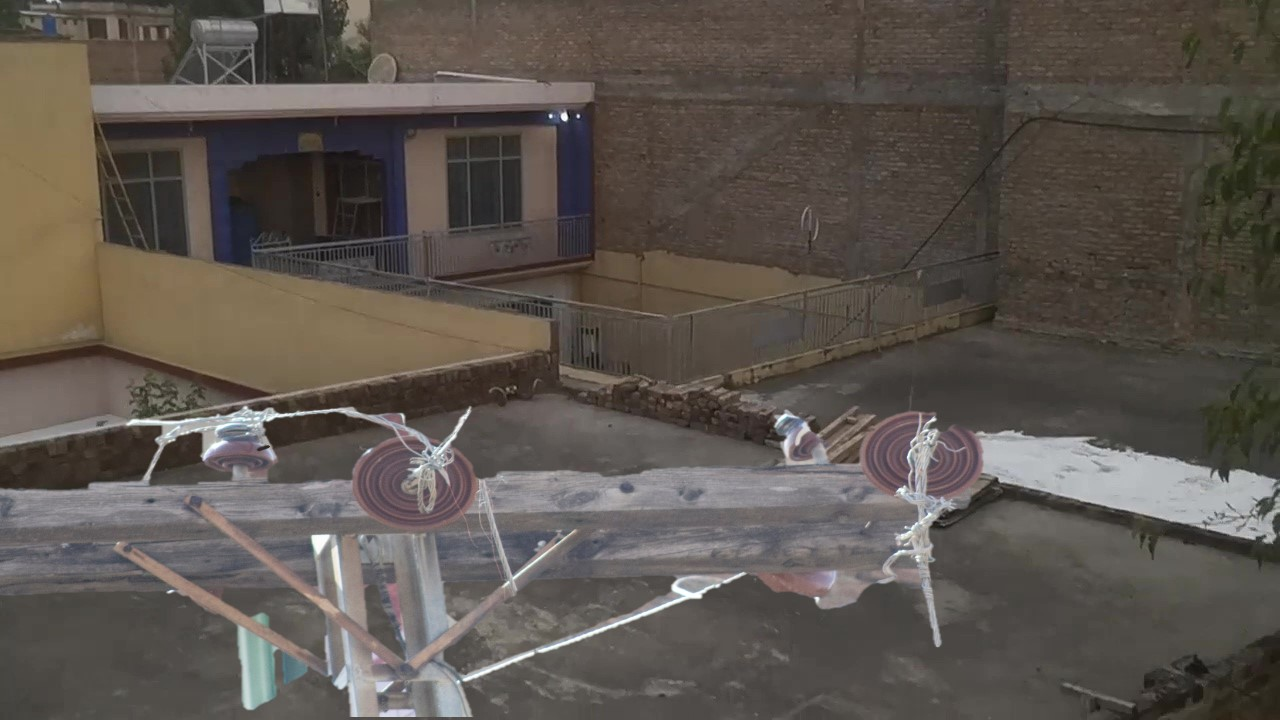defect_pin: (769, 408, 837, 470)
insulator_disc: (345, 429, 485, 535), (859, 404, 988, 508)
insulator_pin: (196, 407, 282, 482)
